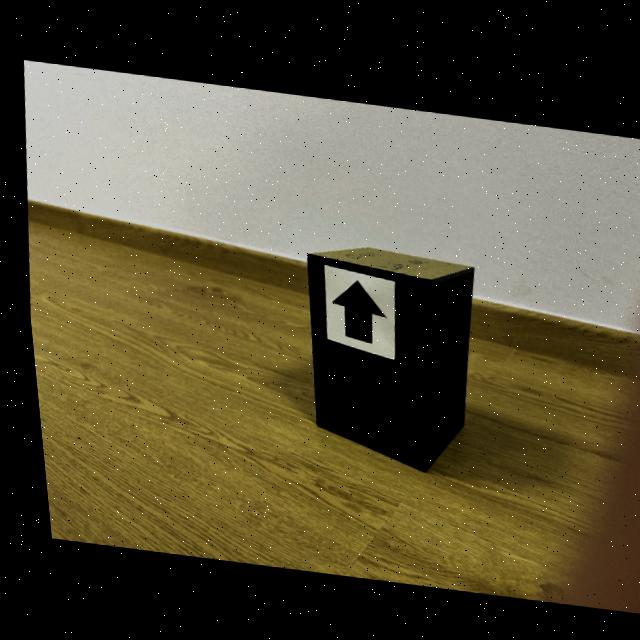UP: (326, 277, 379, 341)
